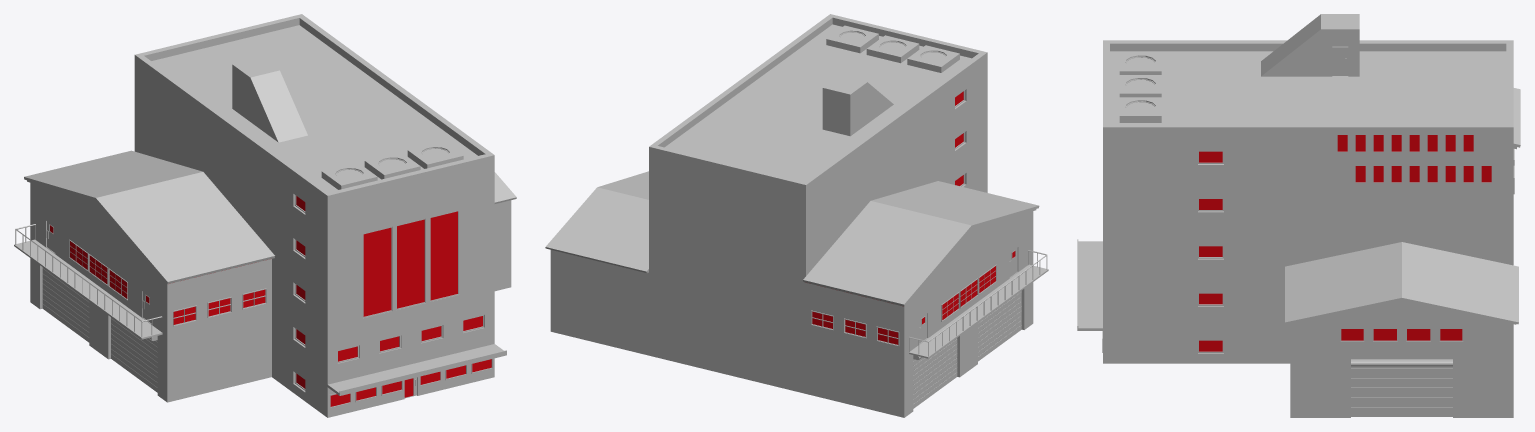
Rendered from SM_infrastructure_buildings_011.gltf.
The picture shows the model from 3 angles, left to right: view 1: azimuth 30°, elevation 25°; view 2: azimuth 150°, elevation 25°; view 3: azimuth 270°, elevation 25°; orthographic projection. The views are drawn at different scales.
Parts seen in each view (by area): view 1: infrastructure_buildings_011; view 2: infrastructure_buildings_011; view 3: infrastructure_buildings_011.
Part boxes in pixels (box(x1,y1,x2,y2)): infrastructure_buildings_011: box(14, 14, 516, 417); infrastructure_buildings_011: box(545, 14, 1048, 417); infrastructure_buildings_011: box(1077, 14, 1520, 417).
Bounding box in the file's own units: 38 × 23.35 × 34.
